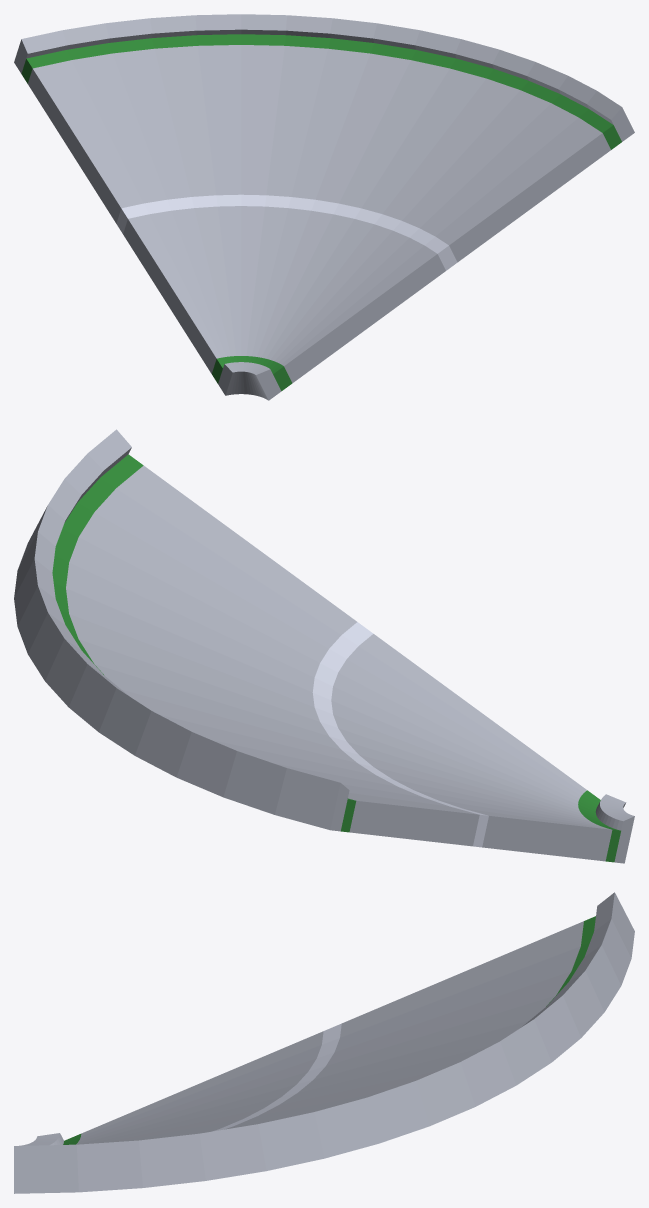
Rendered from tilt_sharp_turn.glb.
The picture shows the model from 3 angles, top to bottom: view 1: azimuth 30°, elevation 25°; view 2: azimuth 150°, elevation 25°; view 3: azimuth 270°, elevation 25°; orthographic projection. The views are drawn at different scales.
Parts seen in each view (by area): view 1: tilt_road_left.001; view 2: tilt_road_left.001; view 3: tilt_road_left.001.
Part boxes in pixels (box(x1,y1,x2,y2)): tilt_road_left.001: box(14, 14, 634, 400); tilt_road_left.001: box(14, 429, 634, 863); tilt_road_left.001: box(14, 892, 634, 1193).
Bounding box in the file's own units: 19.49 × 9.81 × 19.49.
